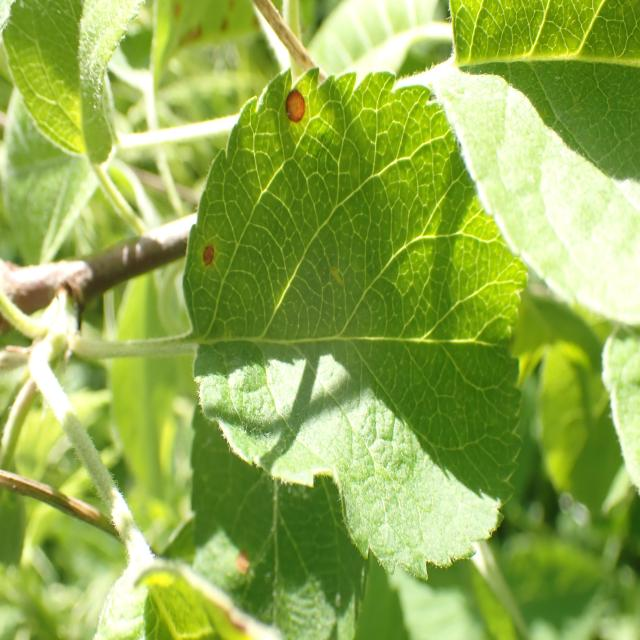frog-eye-leaf-spot: (182, 68, 531, 582)
